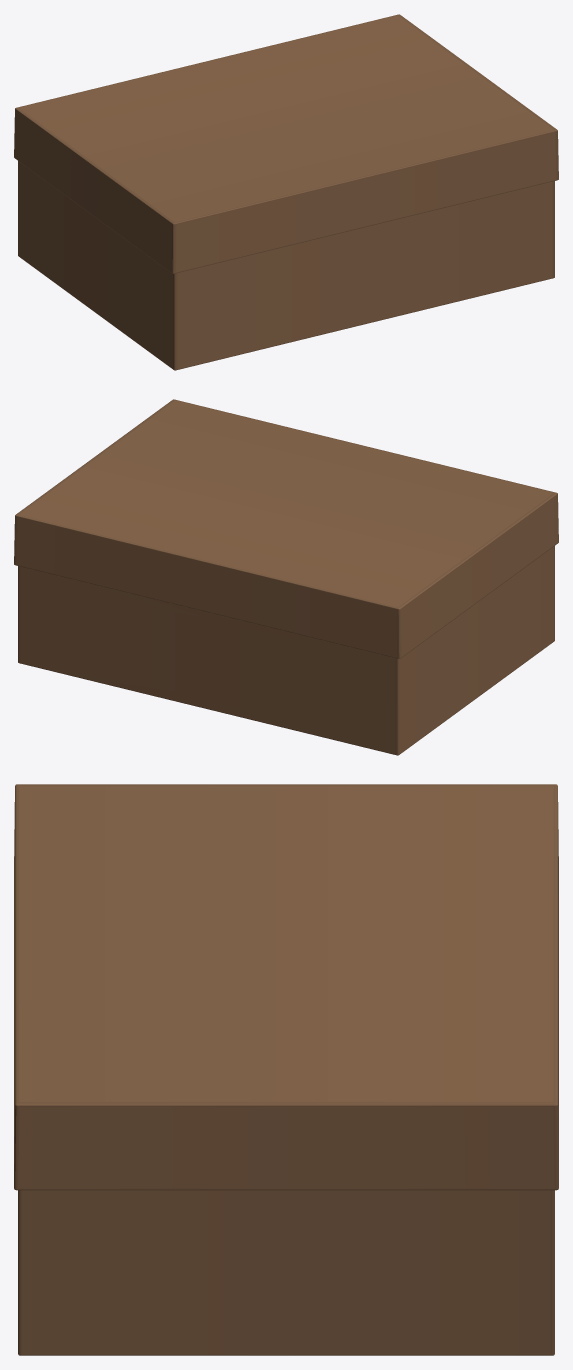
Rendered from Brown Shoebox.fbx.
3 renders of one model, top to bottom at view 1: azimuth 30°, elevation 25°; view 2: azimuth 150°, elevation 25°; view 3: azimuth 270°, elevation 25°, orthographic. The views are drawn at different scales.
Parts seen in each view (by area): view 1: Brown Shoebox; view 2: Brown Shoebox; view 3: Brown Shoebox.
Part boxes in pixels (<box>): Brown Shoebox: <box>14,14,558,370</box>; Brown Shoebox: <box>14,399,558,755</box>; Brown Shoebox: <box>14,784,558,1355</box>.
Bounding box in the file's own units: 95.2 × 186 × 260.
1 material, 1 textured.
